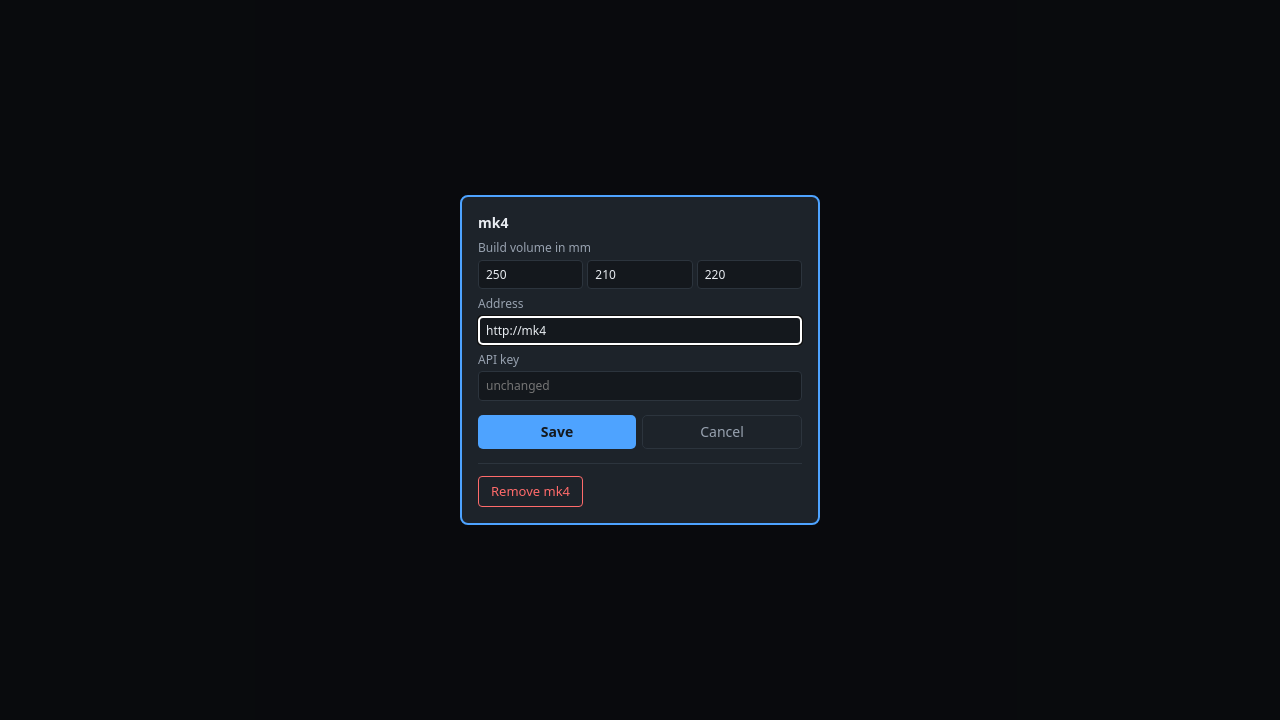
taking a printer out of the shop › stays open with what the shop said when it will not
The width and height of the screenshot is (1280, 720).
Click the button "Remove mk4" at (530, 491), box [478,476,583,507]
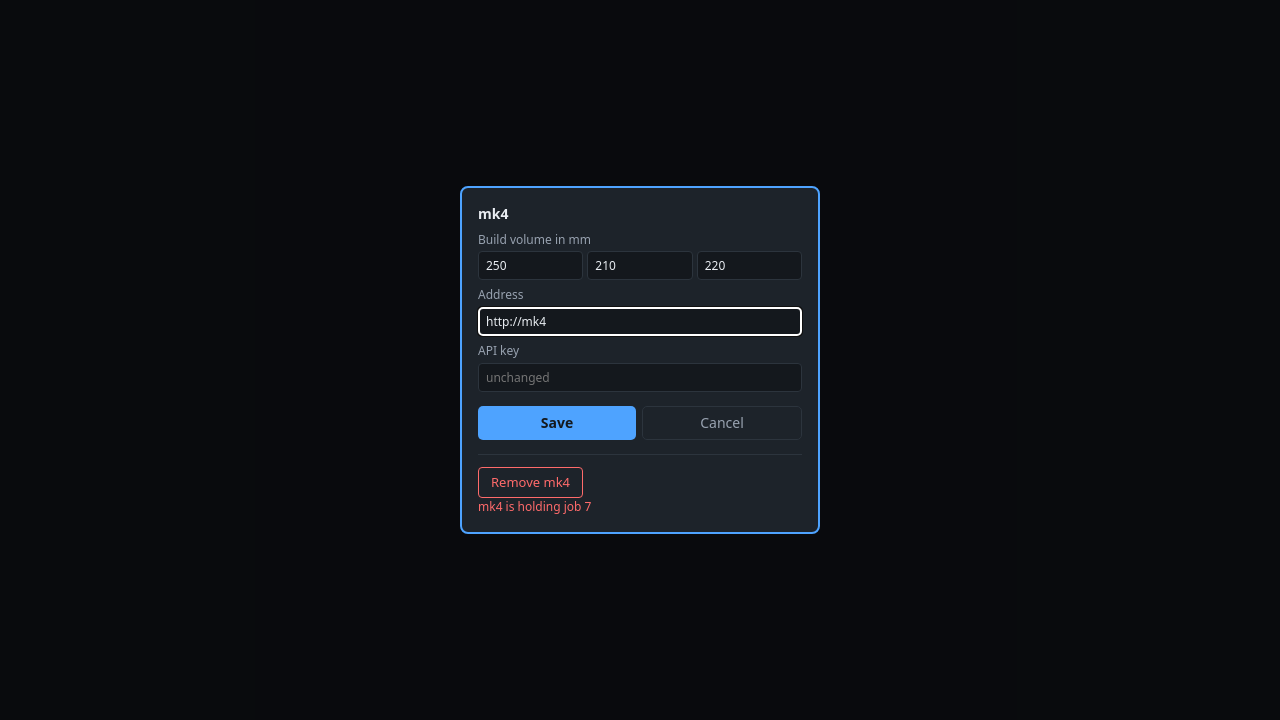
Check: the text "mk4 is holding job 7" is shown, box [478,498,592,515]
